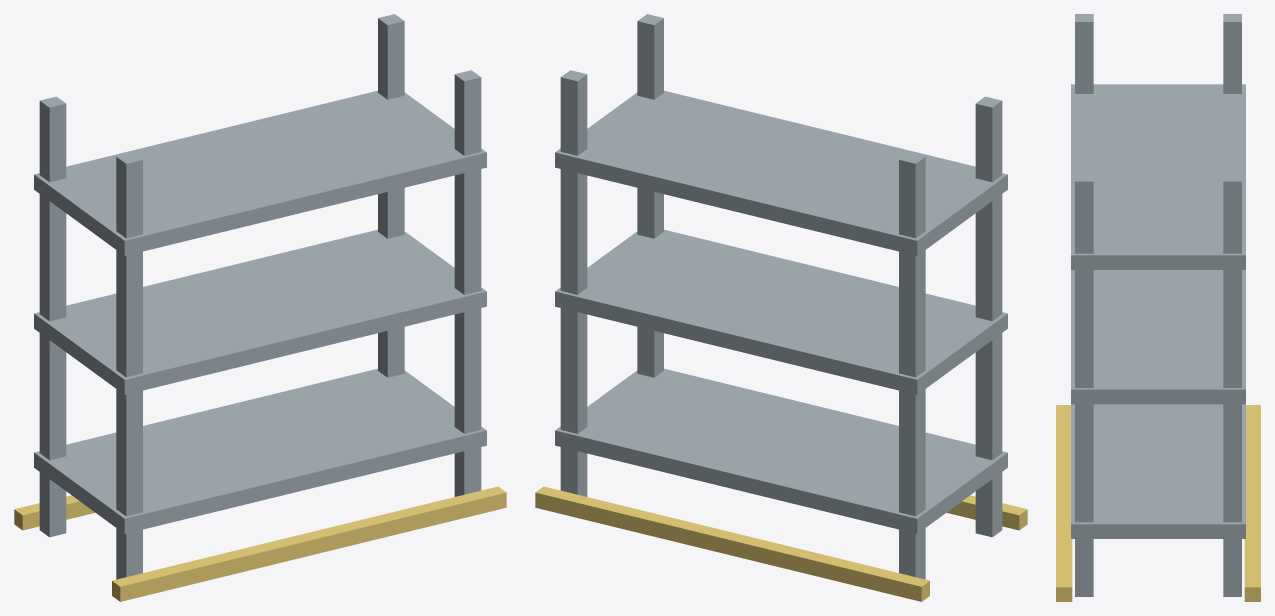
Rendered from rack_lod1.glb.
3 renders of one model, left to right at view 1: azimuth 30°, elevation 25°; view 2: azimuth 150°, elevation 25°; view 3: azimuth 270°, elevation 25°, orthographic. The views are drawn at different scales.
Visible parts, largest first — view 1: rack-node-6, rack-node-5, rack-node-4, rack-node-3, rack-node-0, rack-node-2, rack-node-8, rack-node-1, rack-node-7; view 2: rack-node-6, rack-node-5, rack-node-4, rack-node-1, rack-node-2, rack-node-0, rack-node-7, rack-node-3, rack-node-8; view 3: rack-node-6, rack-node-4, rack-node-5, rack-node-1, rack-node-3, rack-node-7, rack-node-8, rack-node-0, rack-node-2.
Part boxes in pixels (x1,y1,x2,y2): rack-node-6: (34,90,486,255); rack-node-5: (34,229,486,394); rack-node-4: (34,368,486,533); rack-node-3: (454,70,481,496); rack-node-0: (39,96,66,537); rack-node-2: (116,152,142,579); rack-node-8: (112,486,506,601); rack-node-1: (378,14,404,377); rack-node-7: (14,495,95,530); rack-node-6: (555,90,1007,255); rack-node-5: (555,229,1007,394); rack-node-4: (555,368,1007,533); rack-node-1: (560,70,587,496); rack-node-2: (975,96,1002,537); rack-node-0: (899,152,925,579); rack-node-7: (535,486,929,601); rack-node-3: (637,14,663,377); rack-node-8: (946,495,1027,530); rack-node-6: (1071,84,1245,269); rack-node-4: (1071,404,1245,538); rack-node-5: (1071,270,1245,404); rack-node-1: (1223,173,1241,596); rack-node-3: (1075,173,1093,596); rack-node-7: (1244,405,1260,601); rack-node-8: (1056,405,1072,601); rack-node-0: (1223,14,1241,93); rack-node-2: (1075,14,1093,93).
Bounding box in the file's own units: 3.2 × 3.4 × 1.52.
